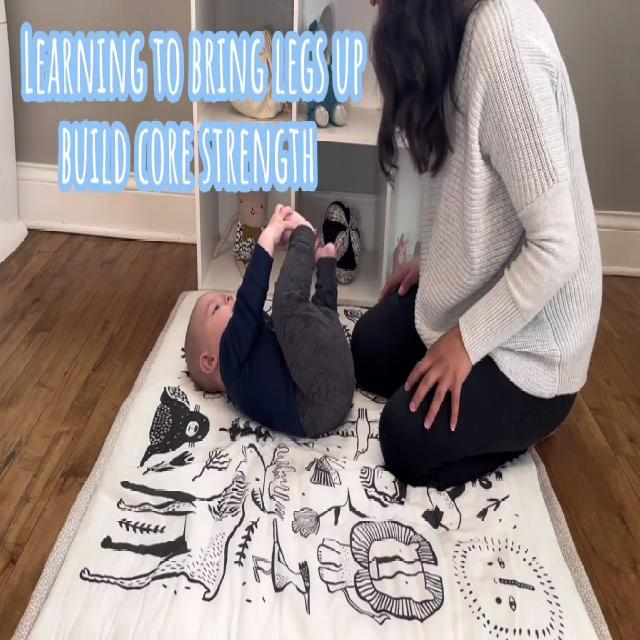baby: (184, 199, 360, 452)
